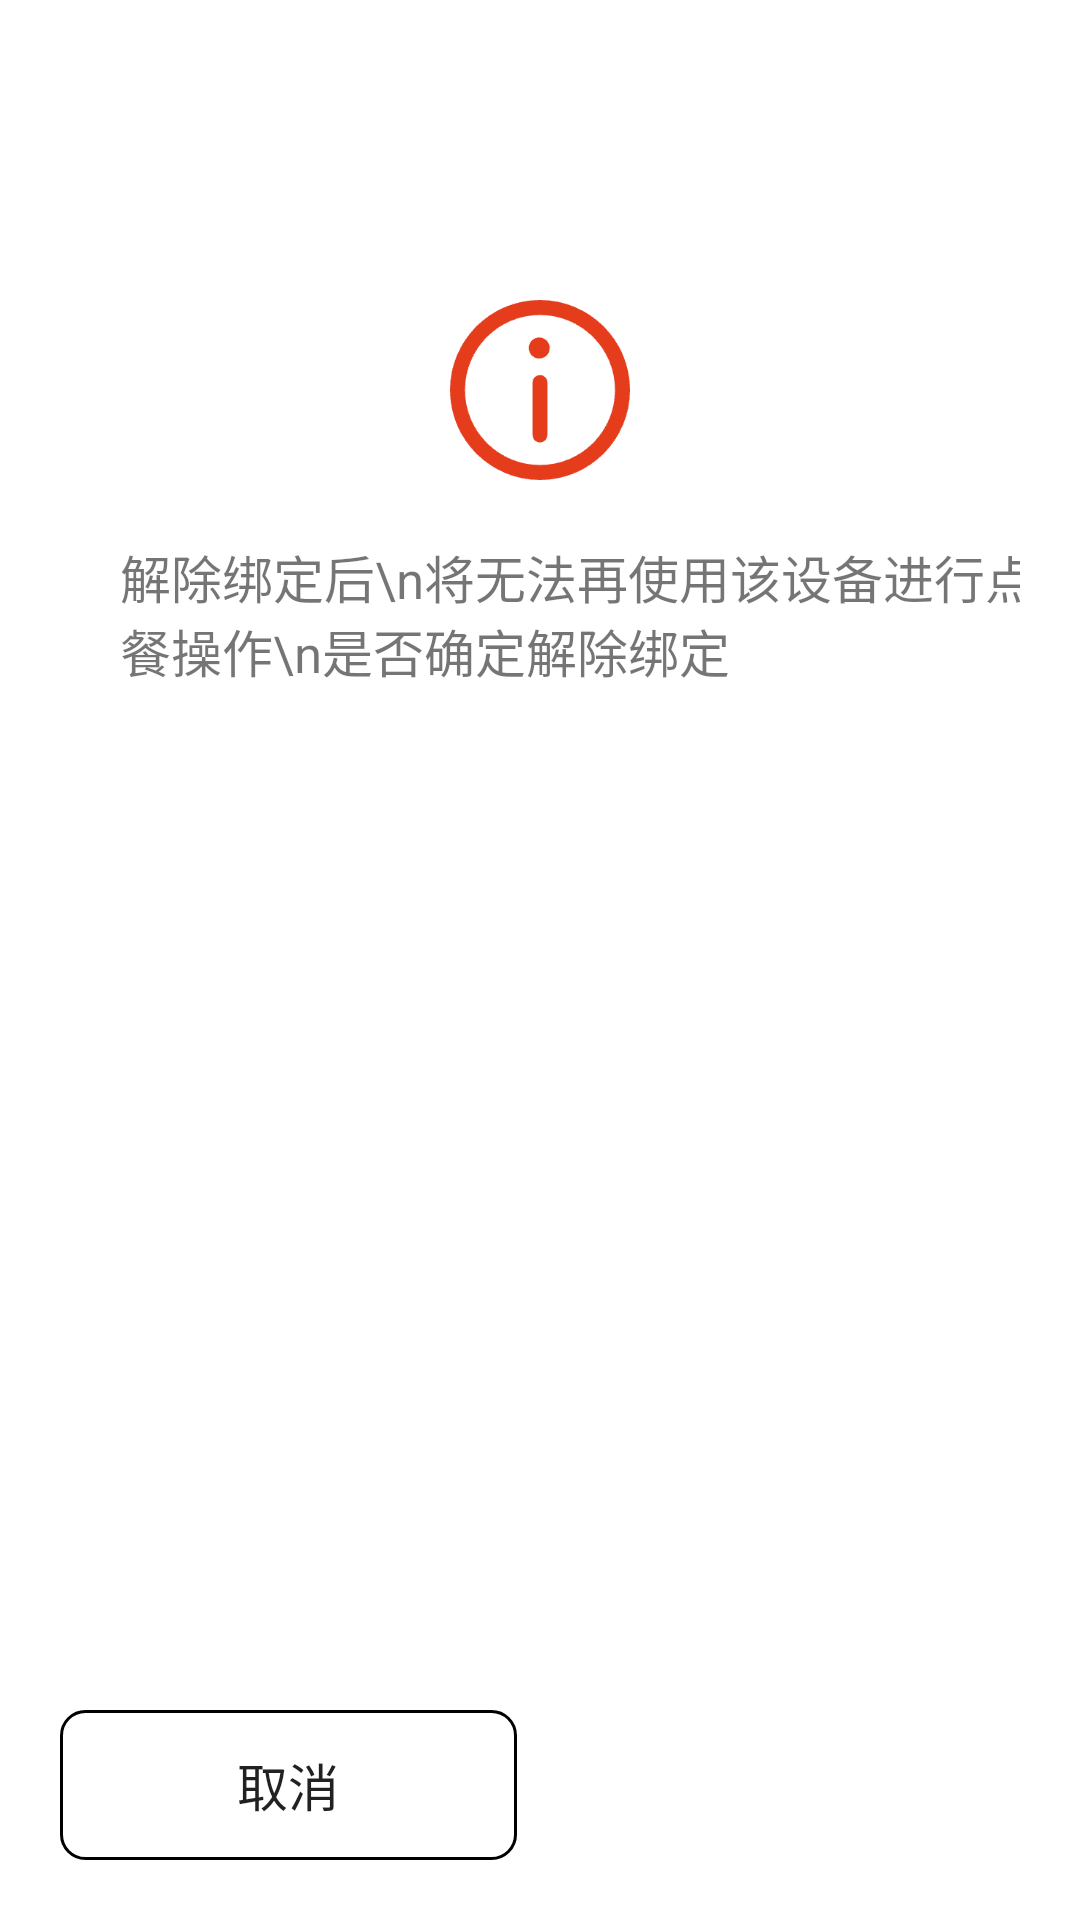

Where to tap for icons on this 1080x1920 app screen, as (x,y):
error: (540,390)
